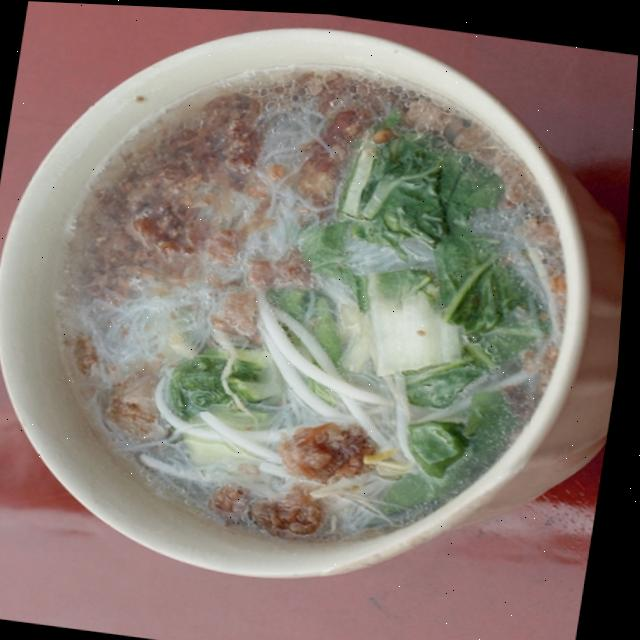面条主食: (0, 1, 617, 604)
